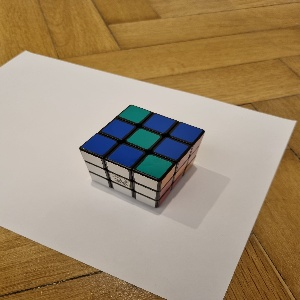cube: (79, 105, 205, 208)
